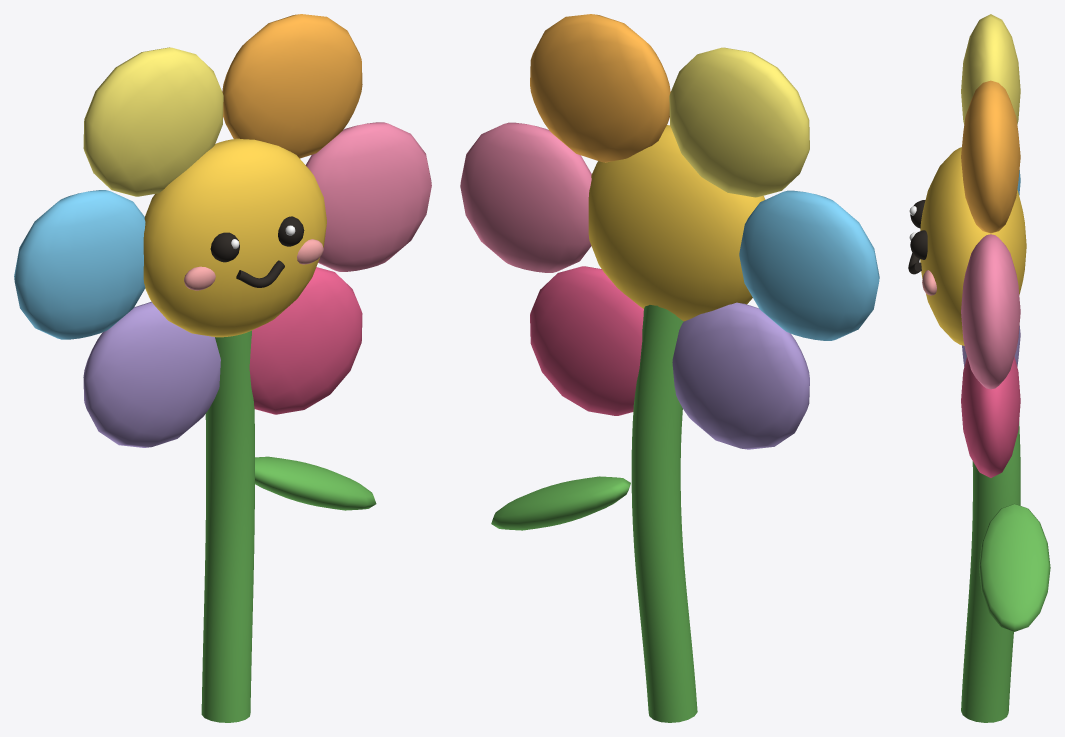
Rendered from flower.glb.
3 renders of one model, left to right at view 1: azimuth 30°, elevation 25°; view 2: azimuth 150°, elevation 25°; view 3: azimuth 270°, elevation 25°, orthographic. The views are drawn at different scales.
Parts seen in each view (by area): view 1: center, stem, petal2, petal3, petal1, petal4, petal0, petal5, leaf; view 2: center, stem, petal2, petal3, petal1, petal4, petal0, petal5, leaf; view 3: stem, center, petal0, petal1, leaf, petal5, petal2, eye1, cheek1.
Part boxes in pixels (x1,y1,x2,y2): center: (143, 138, 326, 337); stem: (201, 330, 254, 722); petal2: (83, 47, 223, 196); petal3: (14, 190, 145, 339); petal1: (222, 14, 362, 158); petal4: (83, 301, 220, 447); petal0: (306, 122, 431, 271); petal5: (249, 267, 362, 414); leaf: (255, 456, 376, 510); center: (588, 125, 765, 321); stem: (631, 305, 697, 722); petal2: (669, 47, 809, 197); petal3: (739, 190, 879, 340); petal1: (530, 14, 670, 162); petal4: (672, 302, 809, 449); petal0: (460, 122, 591, 272); petal5: (530, 266, 643, 415); leaf: (491, 476, 630, 530); stem: (961, 355, 1020, 722); center: (920, 147, 1026, 345); petal0: (961, 234, 1020, 389); petal1: (961, 80, 1020, 233); leaf: (979, 504, 1050, 631); petal5: (961, 357, 1020, 477); petal2: (961, 14, 1020, 124); eye1: (910, 230, 927, 259); cheek1: (922, 270, 936, 295).
Size of the model in its own units: 0.78 by 1.22 by 0.238.
